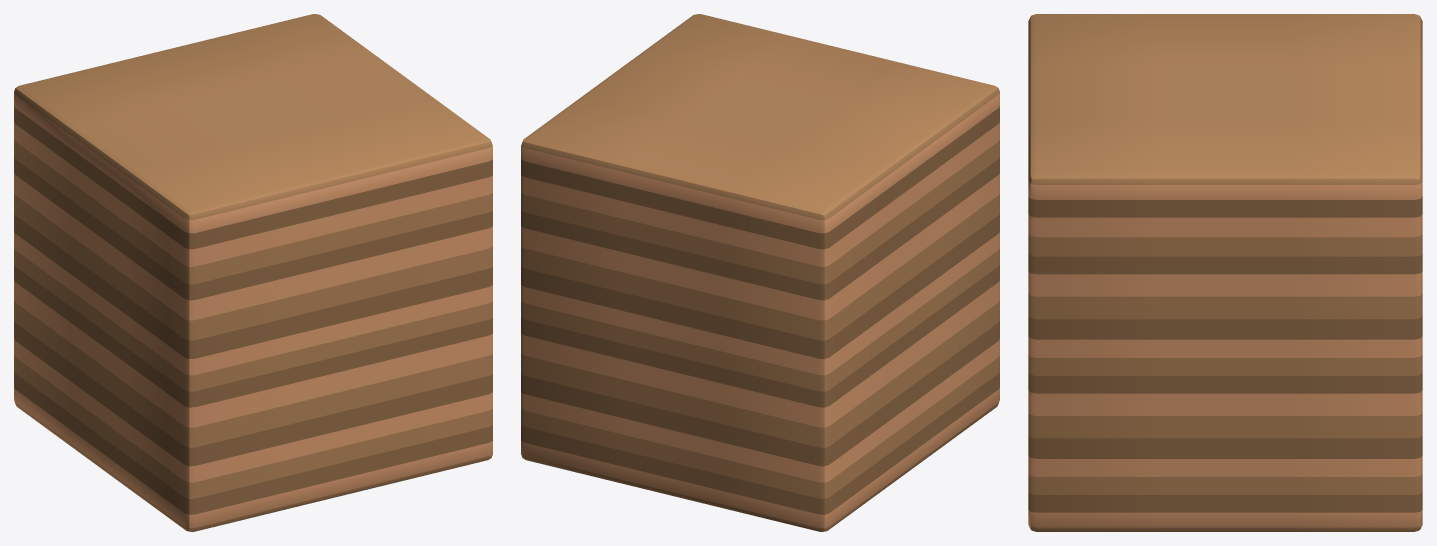
Rendered from Cube Dirt 3x3x3.glb.
The picture shows the model from 3 angles, left to right: view 1: azimuth 30°, elevation 25°; view 2: azimuth 150°, elevation 25°; view 3: azimuth 270°, elevation 25°; orthographic projection. The views are drawn at different scales.
Visible parts, largest first — view 1: Cube_Dirt_Corner_Tall, Cube_Grass_CornerCenter_Tall, Cube_Dirt_Side_Tall, Cube_Grass_CornerBottom_Tall, Cube_Dirt_Corner_Tall.001, Cube_Dirt_Side_Tall.003, Cube_Dirt_Corner_Tall.003, Cube_Grass_SideCenter_Tall, Cube_Grass_SideBottom_Tall, Cube_Grass_CornerCenter_Tall.001, Cube_Grass_CornerBottom_Tall.003, Cube_Grass_SideCenter_Tall.001 (+7 smaller); view 2: Cube_Dirt_Corner_Tall.003, Cube_Grass_CornerCenter_Tall.003, Cube_Dirt_Side_Tall.002, Cube_Grass_CornerBottom_Tall.001, Cube_Dirt_Corner_Tall.002, Cube_Dirt_Side_Tall.003, Cube_Dirt_Corner_Tall, Cube_Grass_SideCenter_Tall.002, Cube_Grass_SideBottom_Tall.002, Cube_Grass_CornerCenter_Tall.002, Cube_Grass_CornerBottom_Tall.002, Cube_Grass_SideCenter_Tall.001 (+7 smaller); view 3: Cube_Dirt_Side_Tall.001, Cube_Dirt_Corner_Tall.001, Cube_Dirt_Corner_Tall.002, Cube_Grass_SideCenter_Tall.003, Cube_Grass_CornerCenter_Tall.001, Cube_Grass_CornerCenter_Tall.002, Cube_Grass_SideBottom_Tall.003, Cube_Grass_CornerBottom_Tall.002, Cube_Grass_CornerBottom_Tall.003, Cube_Dirt_Center_Tall, Cube_Dirt_Side_Tall, Cube_Dirt_Side_Tall.002 (+3 smaller).
Boxes of the visible parts, x1=… form: Cube_Dirt_Corner_Tall: x1=129, y1=146, x2=290, y2=320; Cube_Grass_CornerCenter_Tall: x1=129, y1=279, x2=290, y2=427; Cube_Dirt_Side_Tall: x1=232, y1=121, x2=393, y2=296; Cube_Grass_CornerBottom_Tall: x1=129, y1=386, x2=290, y2=531; Cube_Dirt_Corner_Tall.001: x1=335, y1=98, x2=492, y2=271; Cube_Dirt_Side_Tall.003: x1=70, y1=103, x2=231, y2=277; Cube_Dirt_Corner_Tall.003: x1=14, y1=62, x2=171, y2=234; Cube_Grass_SideCenter_Tall: x1=291, y1=272, x2=393, y2=403; Cube_Grass_SideBottom_Tall: x1=290, y1=379, x2=393, y2=508; Cube_Grass_CornerCenter_Tall.001: x1=393, y1=246, x2=492, y2=378; Cube_Grass_CornerBottom_Tall.003: x1=392, y1=354, x2=492, y2=483; Cube_Grass_SideCenter_Tall.001: x1=70, y1=235, x2=129, y2=385; Cube_Dirt_Corner_Tall.003: x1=723, y1=146, x2=884, y2=320; Cube_Grass_CornerCenter_Tall.003: x1=723, y1=279, x2=884, y2=427; Cube_Dirt_Side_Tall.002: x1=620, y1=121, x2=781, y2=296; Cube_Grass_CornerBottom_Tall.001: x1=723, y1=386, x2=884, y2=531; Cube_Dirt_Corner_Tall.002: x1=521, y1=98, x2=678, y2=271; Cube_Dirt_Side_Tall.003: x1=782, y1=103, x2=943, y2=277; Cube_Dirt_Corner_Tall: x1=842, y1=62, x2=999, y2=234; Cube_Grass_SideCenter_Tall.002: x1=620, y1=272, x2=722, y2=403; Cube_Grass_SideBottom_Tall.002: x1=620, y1=379, x2=723, y2=508; Cube_Grass_CornerCenter_Tall.002: x1=521, y1=246, x2=620, y2=378; Cube_Grass_CornerBottom_Tall.002: x1=521, y1=354, x2=621, y2=483; Cube_Grass_SideCenter_Tall.001: x1=884, y1=235, x2=943, y2=385; Cube_Dirt_Side_Tall.001: x1=1159, y1=122, x2=1291, y2=296; Cube_Dirt_Corner_Tall.001: x1=1028, y1=122, x2=1159, y2=296; Cube_Dirt_Corner_Tall.002: x1=1291, y1=122, x2=1422, y2=296; Cube_Grass_SideCenter_Tall.003: x1=1159, y1=296, x2=1291, y2=415; Cube_Grass_CornerCenter_Tall.001: x1=1028, y1=294, x2=1159, y2=415; Cube_Grass_CornerCenter_Tall.002: x1=1291, y1=294, x2=1422, y2=415; Cube_Grass_SideBottom_Tall.003: x1=1159, y1=416, x2=1291, y2=531; Cube_Grass_CornerBottom_Tall.002: x1=1291, y1=413, x2=1422, y2=531; Cube_Grass_CornerBottom_Tall.003: x1=1028, y1=413, x2=1159, y2=531; Cube_Dirt_Center_Tall: x1=1159, y1=66, x2=1291, y2=121; Cube_Dirt_Side_Tall: x1=1028, y1=66, x2=1159, y2=128; Cube_Dirt_Side_Tall.002: x1=1291, y1=66, x2=1422, y2=128.
Size of the model in its own units: 6 by 6 by 6.
